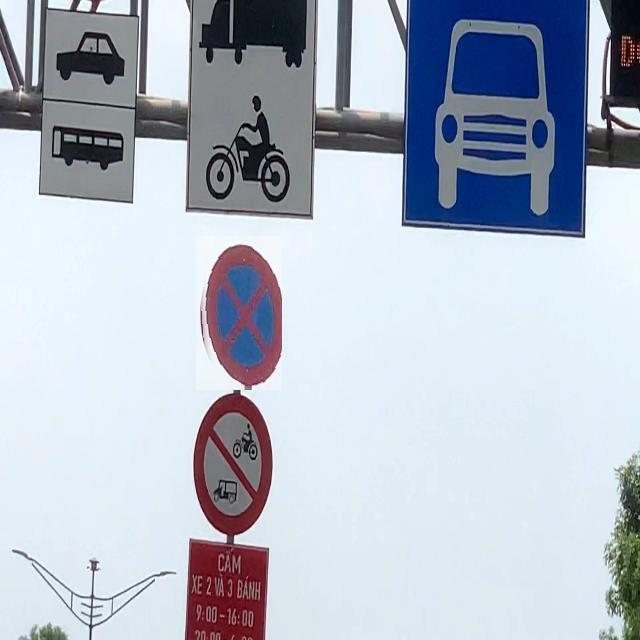P-130: (197, 236, 283, 390)
